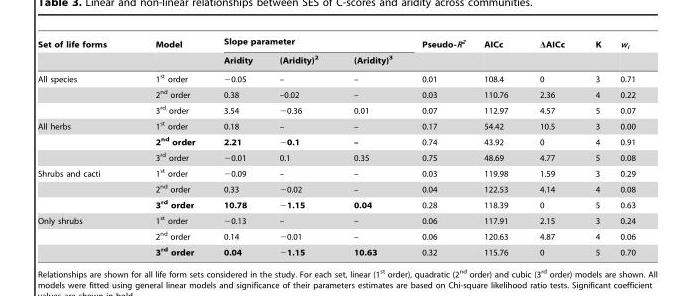table: (37, 36, 634, 256)
table column: (37, 36, 130, 256), (130, 36, 208, 256), (335, 36, 406, 256), (265, 36, 335, 256), (406, 36, 474, 256), (208, 36, 265, 256), (523, 36, 579, 256), (474, 36, 523, 256), (579, 36, 609, 256), (609, 36, 634, 256)
table column header: (37, 36, 634, 68)
table row: (37, 68, 634, 86), (37, 51, 634, 68), (37, 101, 634, 117), (37, 117, 634, 133), (37, 133, 634, 149), (37, 164, 634, 180), (37, 180, 634, 196), (37, 196, 634, 212), (37, 227, 634, 243), (37, 36, 634, 51), (37, 86, 634, 101), (37, 149, 634, 164), (37, 212, 634, 227), (37, 243, 634, 256)
table spanning cell: (37, 68, 130, 117), (37, 164, 130, 212), (37, 117, 130, 164), (37, 212, 130, 256), (37, 36, 130, 68), (208, 36, 406, 51), (130, 36, 208, 68), (406, 36, 474, 68), (523, 36, 579, 68), (474, 36, 523, 68), (579, 36, 609, 68), (609, 36, 634, 68)
